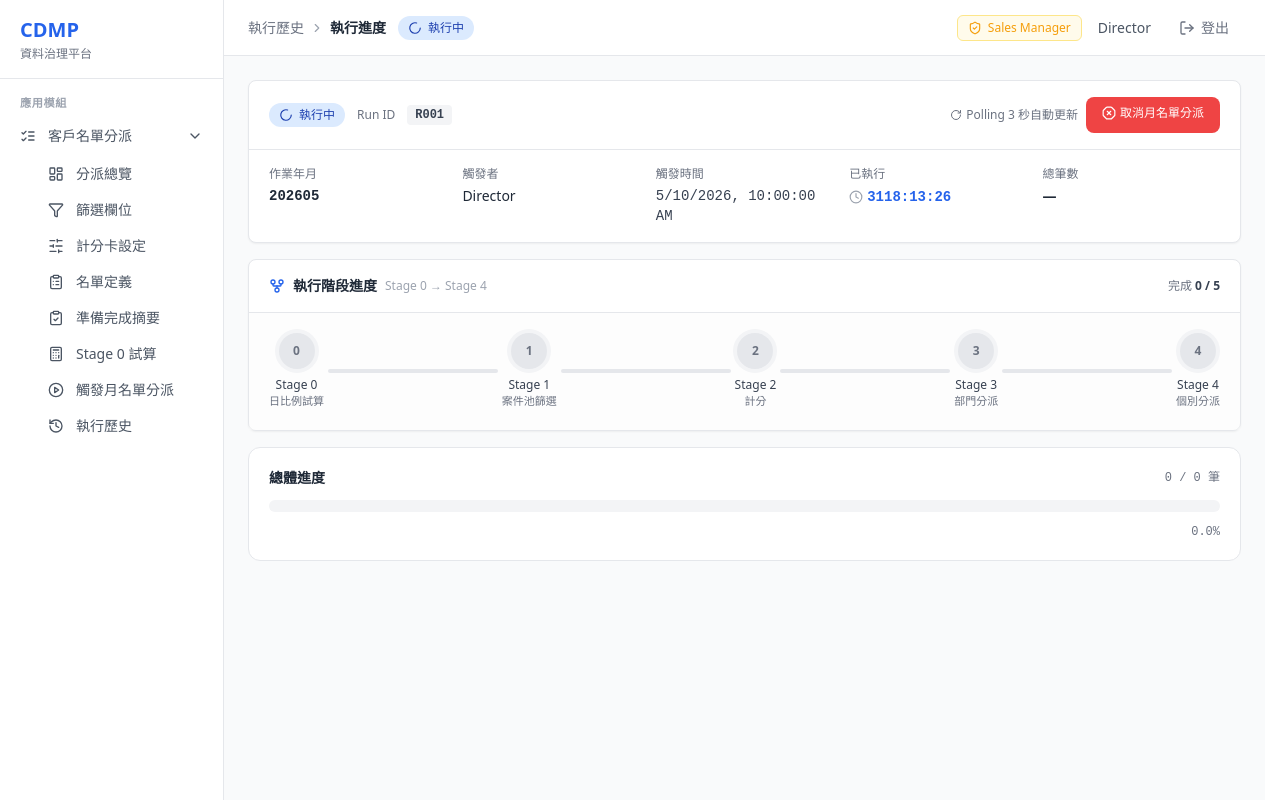
it: RunProgressPage (F062 polling) › Phase 2 改造 › 「取消月名單分派」按鈕 click → 開 confirm modal
Click the button with test id "btn-cancel-run" at (1153, 115), box [1086,97,1220,133]
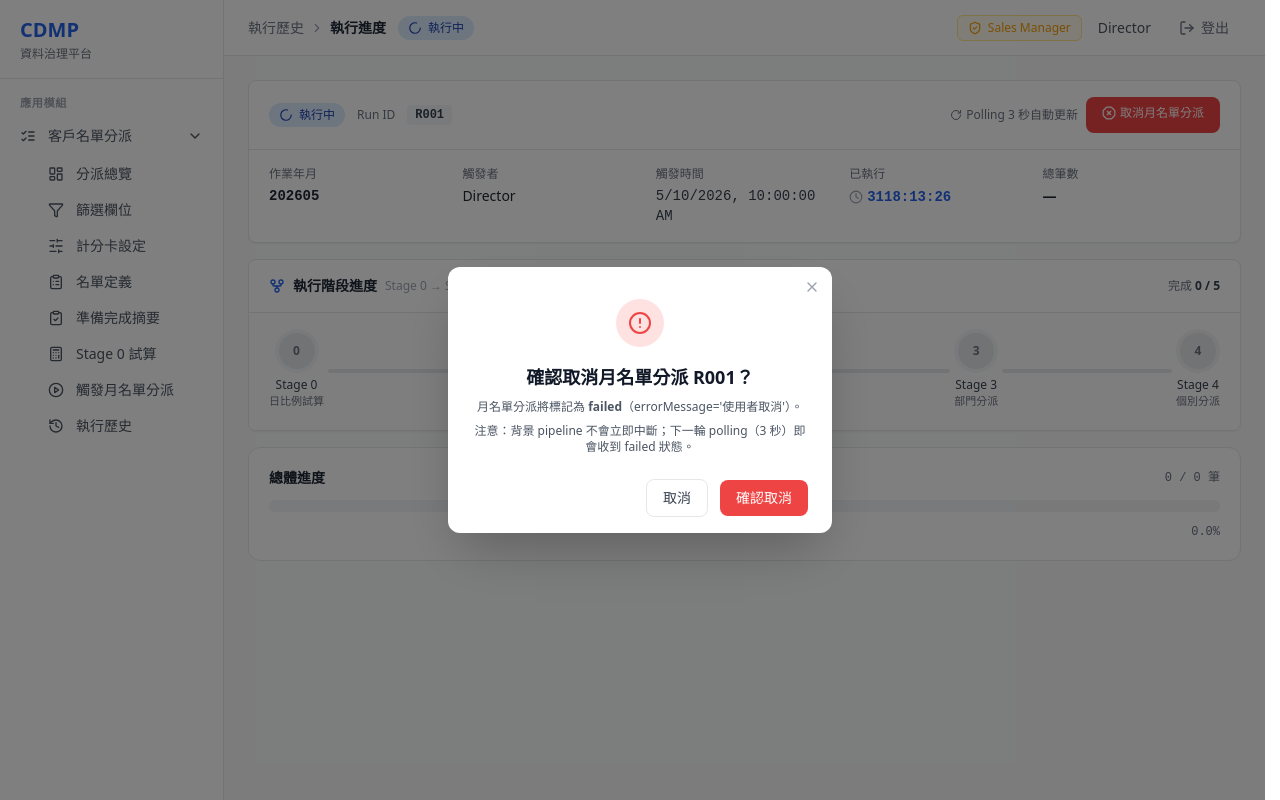
Expected: the element with test id "confirm-cancel-modal" is shown
